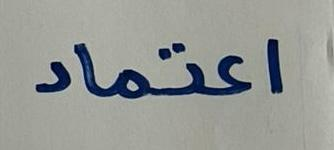ain: (210, 40, 253, 103)
alef: (255, 29, 294, 110), (73, 36, 101, 99)
dal: (24, 40, 72, 112)
meem: (103, 56, 152, 107)
teh: (153, 36, 207, 112)
